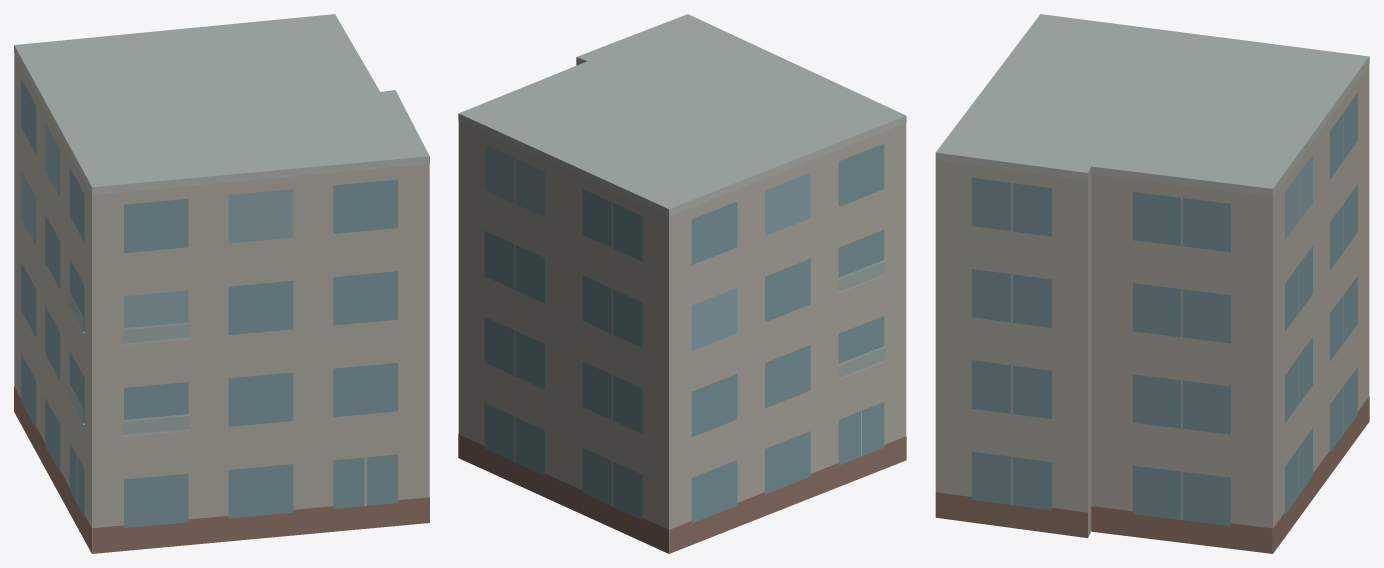
Rendered from survey-upis-32622378.glb.
The picture shows the model from 3 angles, left to right: view 1: azimuth 30°, elevation 25°; view 2: azimuth 150°, elevation 25°; view 3: azimuth 270°, elevation 25°; orthographic projection. The views are drawn at different scales.
Parts seen in each view (by area): view 1: survey-upis-32622378.tmp; view 2: survey-upis-32622378.tmp; view 3: survey-upis-32622378.tmp.
Part boxes in pixels (x1,y1,x2,y2): survey-upis-32622378.tmp: (14, 14, 429, 553); survey-upis-32622378.tmp: (458, 14, 906, 553); survey-upis-32622378.tmp: (935, 14, 1369, 553).
Bounding box in the file's own units: 11.97 × 11.65 × 12.56.
